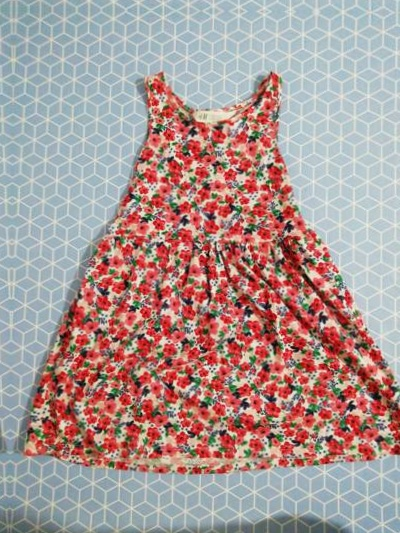Dress: (29, 73, 400, 488)
